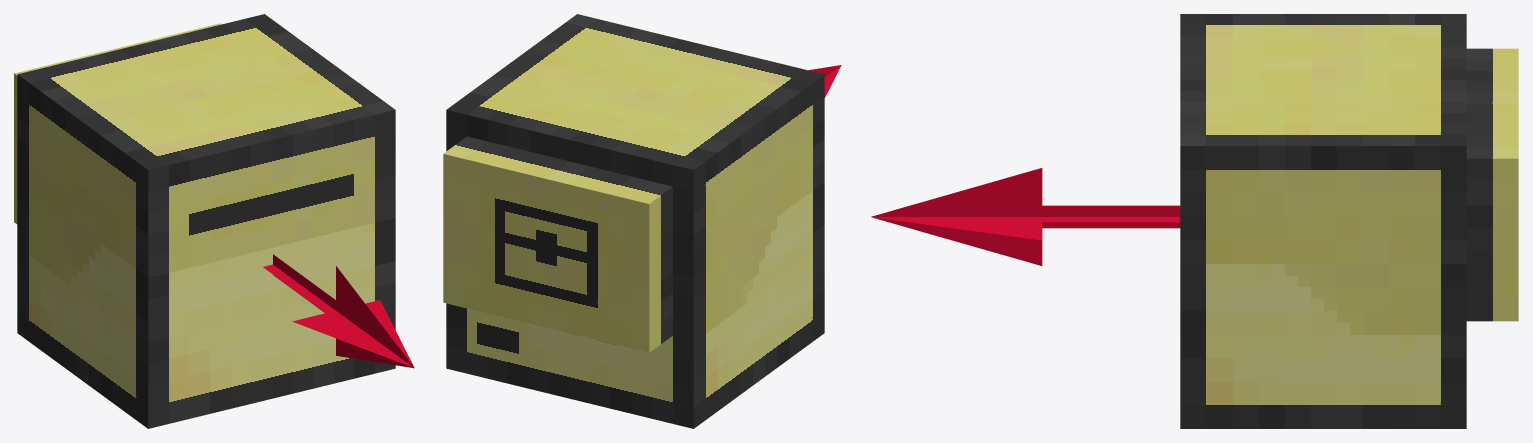
The model's file is turtle.gltf.
3 views of the same model, side by side, from view 1: azimuth 30°, elevation 25°; view 2: azimuth 150°, elevation 25°; view 3: azimuth 270°, elevation 25° (orthographic). The views are drawn at different scales.
Parts seen in each view (by area): view 1: Cone.001; view 2: Cone.001; view 3: Cone.001.
Part boxes in pixels (bbox=[...]): Cone.001: bbox=[14, 14, 414, 428]; Cone.001: bbox=[443, 14, 841, 428]; Cone.001: bbox=[871, 14, 1518, 428].
Bounding box in the file's own units: 0.75 × 0.75 × 1.56.
2 materials, 1 textured.
